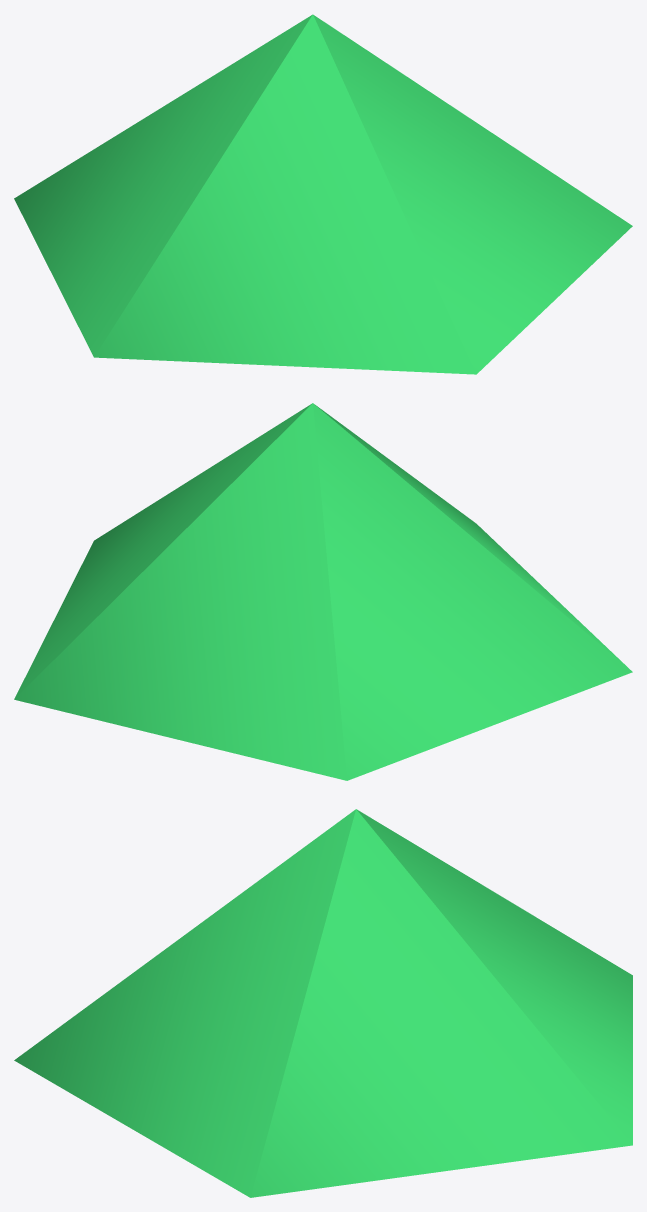
3 renders of one model, top to bottom at view 1: azimuth 30°, elevation 25°; view 2: azimuth 150°, elevation 25°; view 3: azimuth 270°, elevation 25°, orthographic. The views are drawn at different scales.
Bounding box in the file's own units: 0.7119 × 0.3034 × 0.677.
